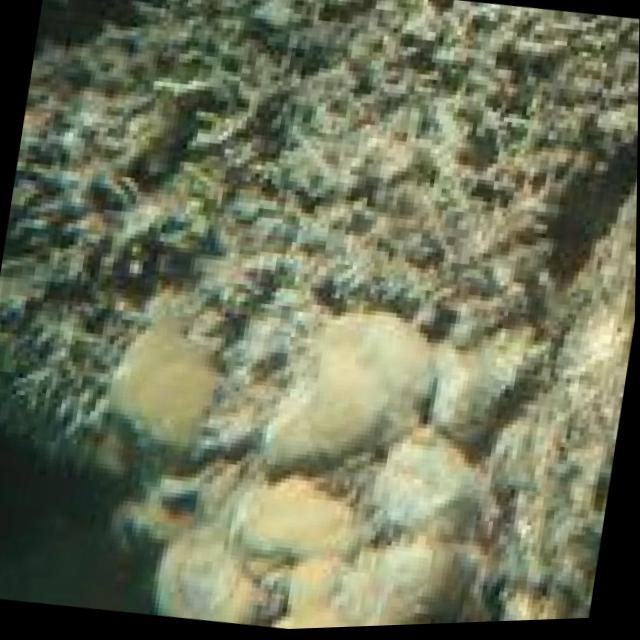Dead Coral: (10, 0, 640, 364)
